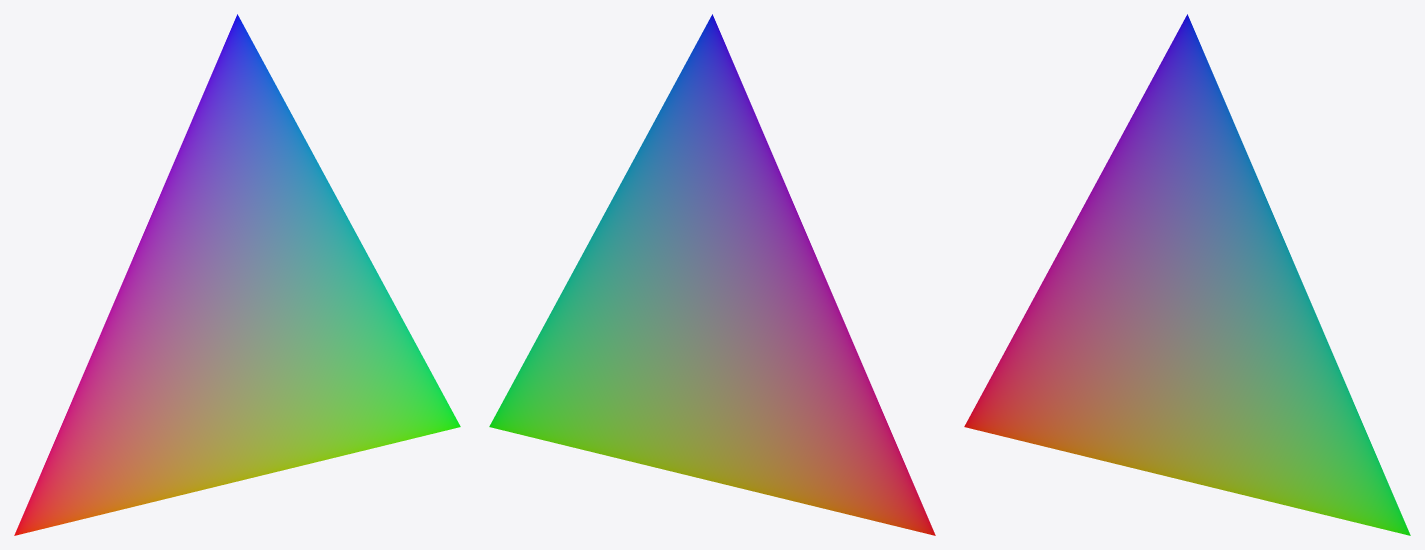
File: TextureTransforms.gltf
The picture shows the model from 3 angles, left to right: view 1: azimuth 30°, elevation 25°; view 2: azimuth 150°, elevation 25°; view 3: azimuth 330°, elevation 25°; orthographic projection.
Size of the model in its own units: 1 by 1 by 0.
Materials: 1 (1 with a texture image).
